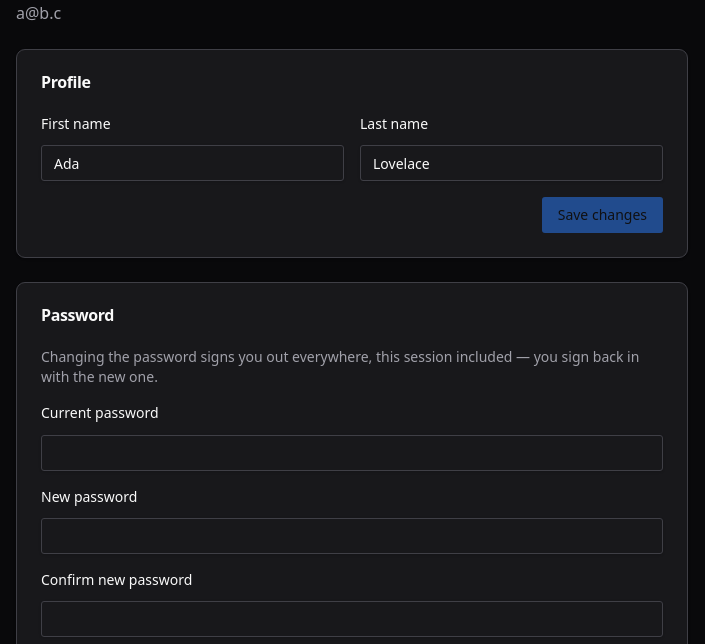
Test case: AccountPage › blocks a mismatched confirmation without posting
Type "old-password-123" into the password field labelled "Current password".
click(352, 452); type("old-password-123")  # box [41,434,663,470]
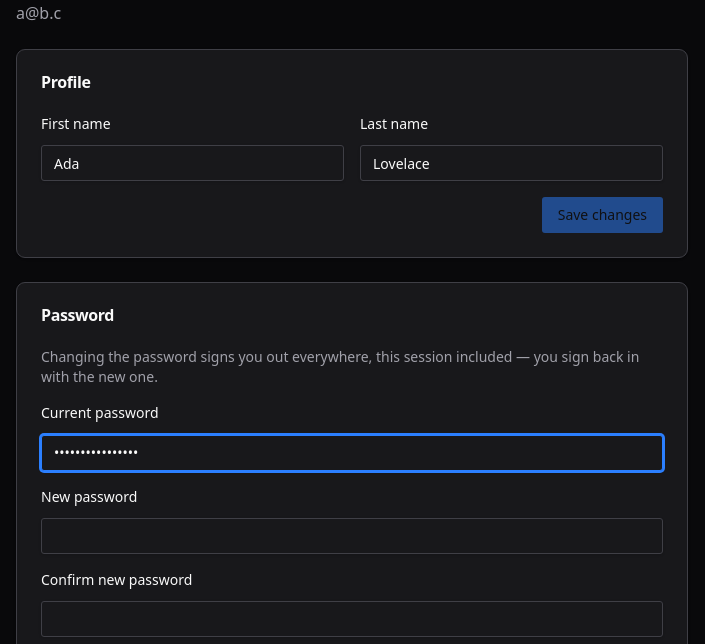
Type "brand-new-pass-456" into the password field labelled "New password".
click(352, 536); type("brand-new-pass-456")  # box [41,518,663,554]
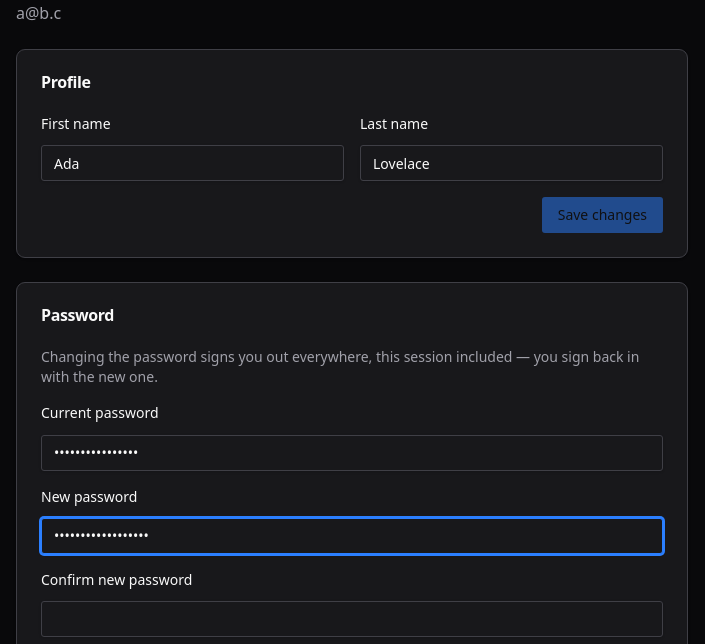
Type "brand-new-pass-457" into the password field labelled "Confirm new password".
click(352, 619); type("brand-new-pass-457")  # box [41,601,663,637]
(page scrolled)
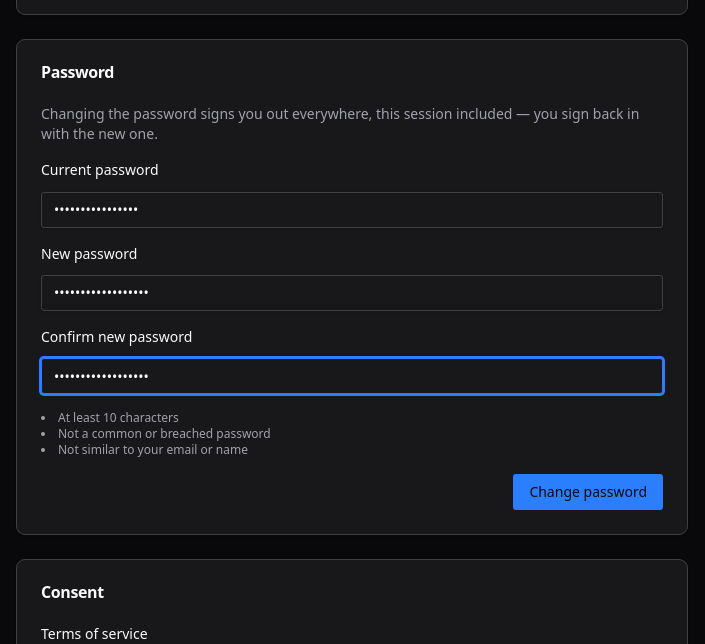
Click the button "Change password".
click(588, 492)  # box [513,474,663,510]
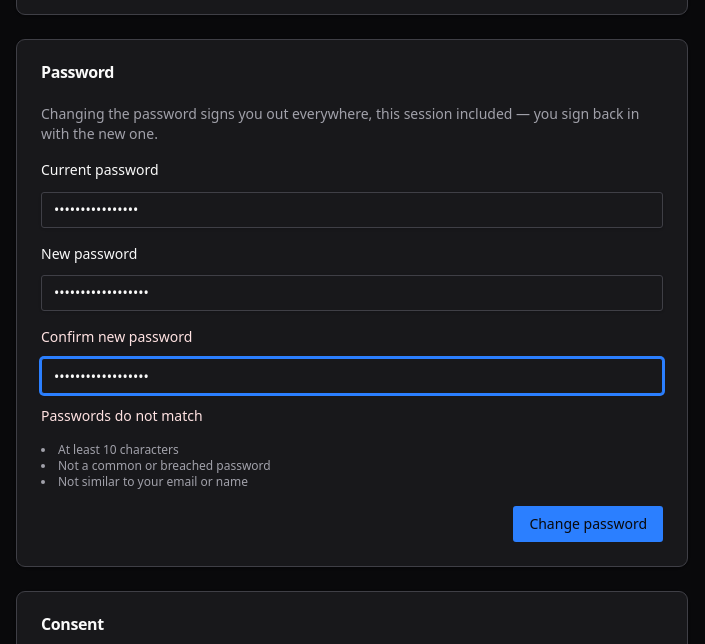
Result: the text "Passwords do not match" is shown at [41,406,203,425]
